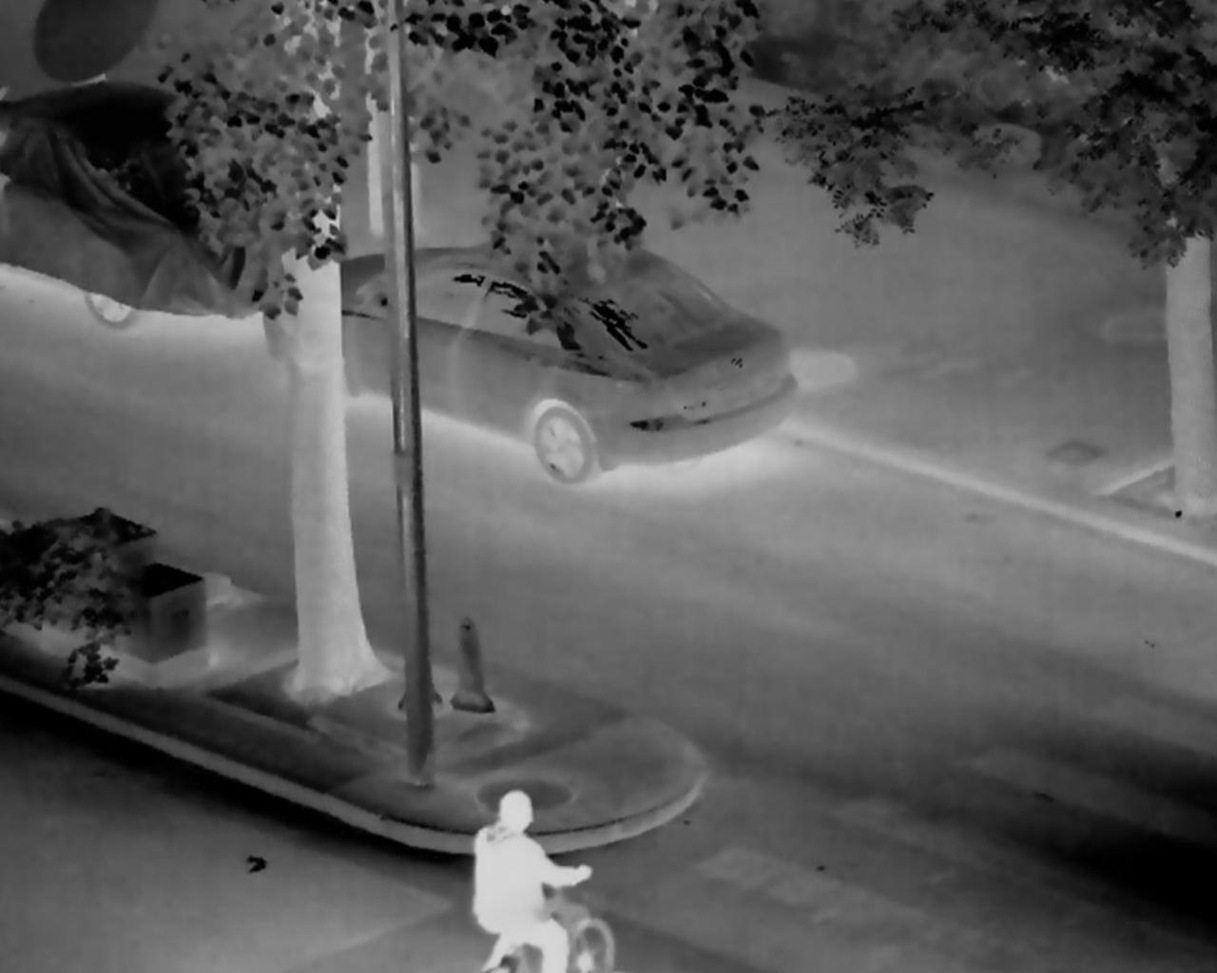person: (466, 789, 597, 972)
